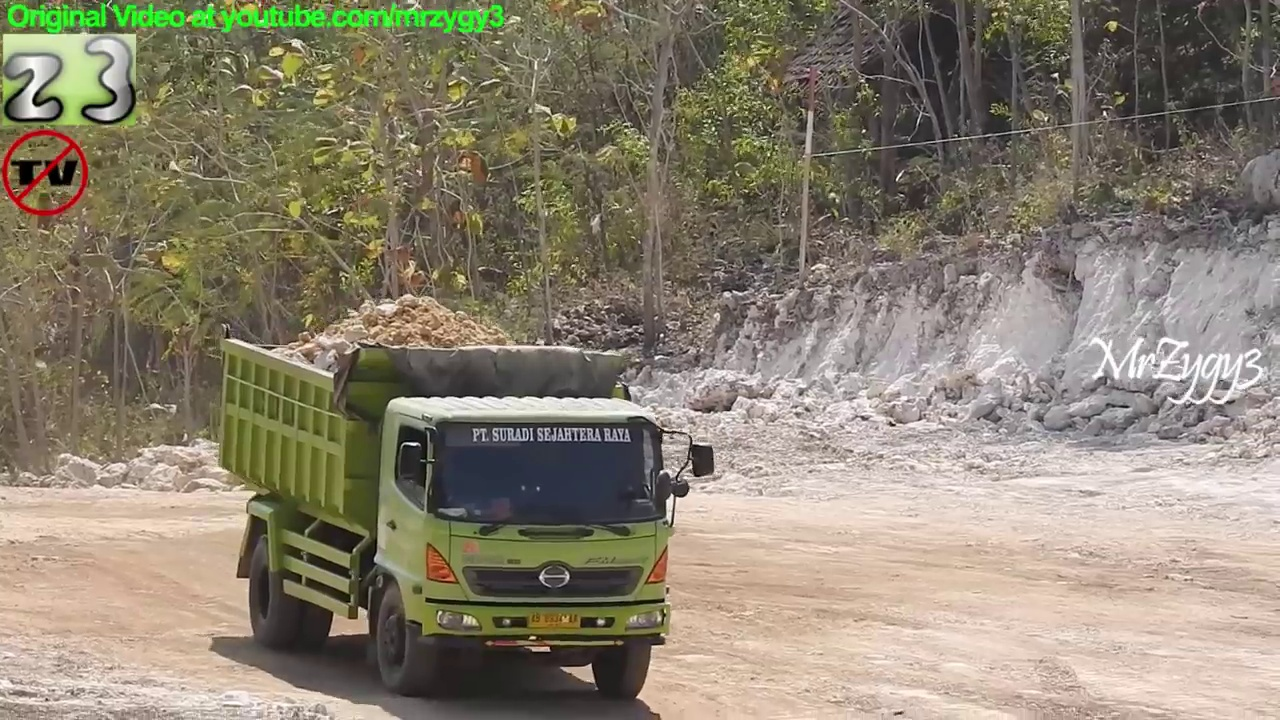truck: (212, 312, 722, 706)
